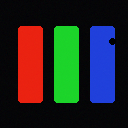0 point: (109, 38, 115, 44)
